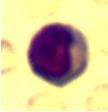lymphocyte: (26, 21, 92, 86)
